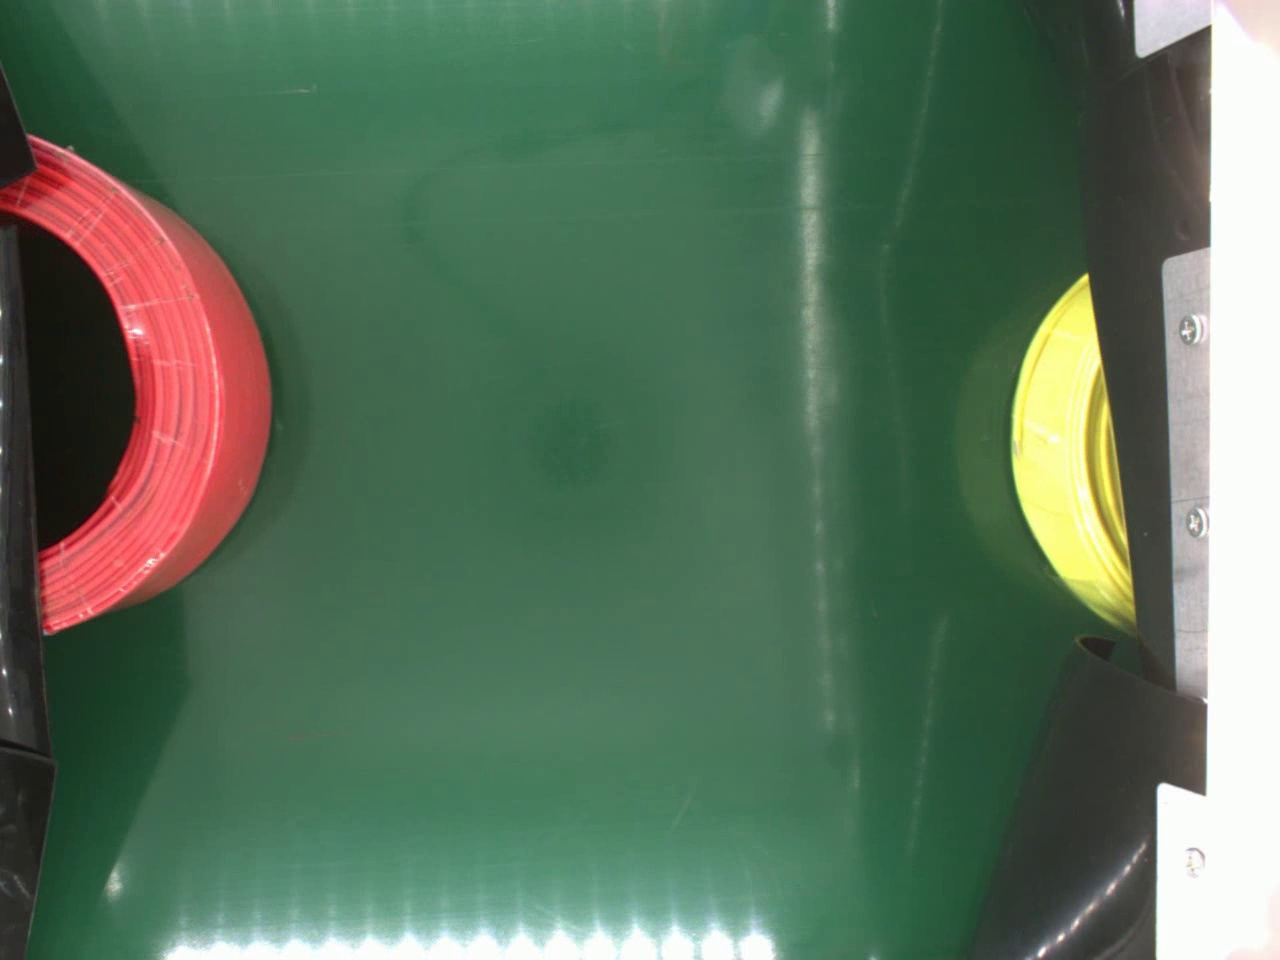red: (4, 135, 273, 637)
